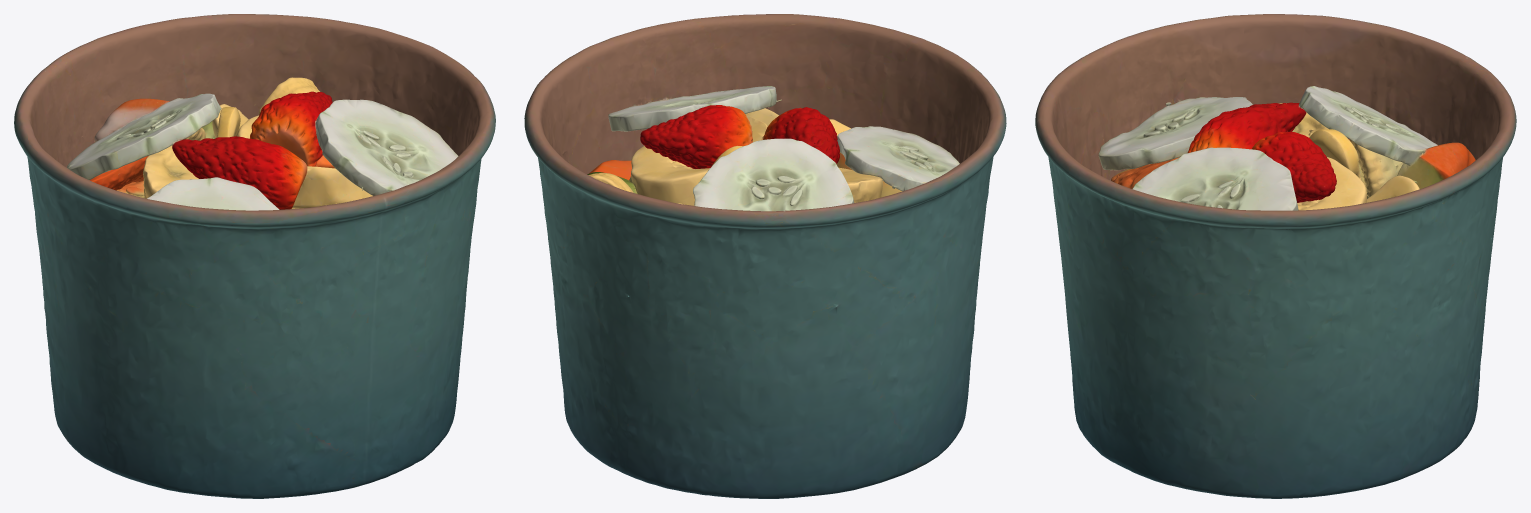
File: Essential_Bowl.glb
The picture shows the model from 3 angles, left to right: view 1: azimuth 30°, elevation 25°; view 2: azimuth 150°, elevation 25°; view 3: azimuth 270°, elevation 25°; orthographic projection.
Size of the model in its own units: 1.9 by 1.33 by 1.9.
Materials: 1 (1 with a texture image).
